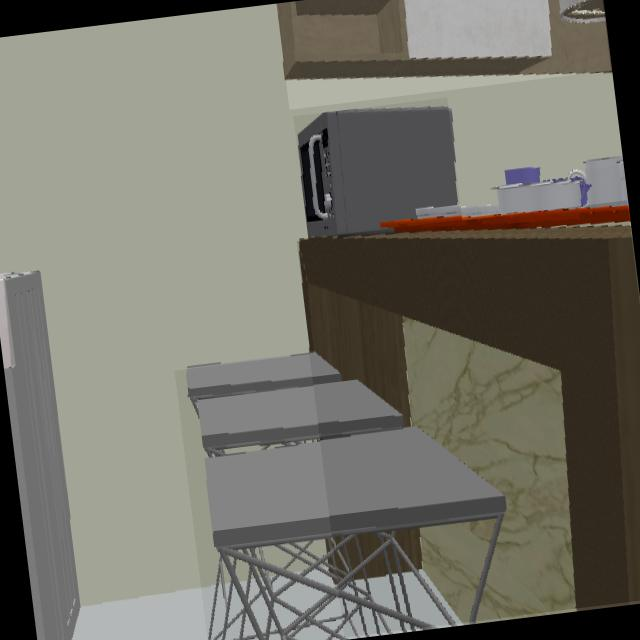cabinet: (277, 0, 611, 79)
chair: (188, 353, 506, 640)
microwave: (299, 110, 457, 236)
table: (300, 226, 640, 606)
